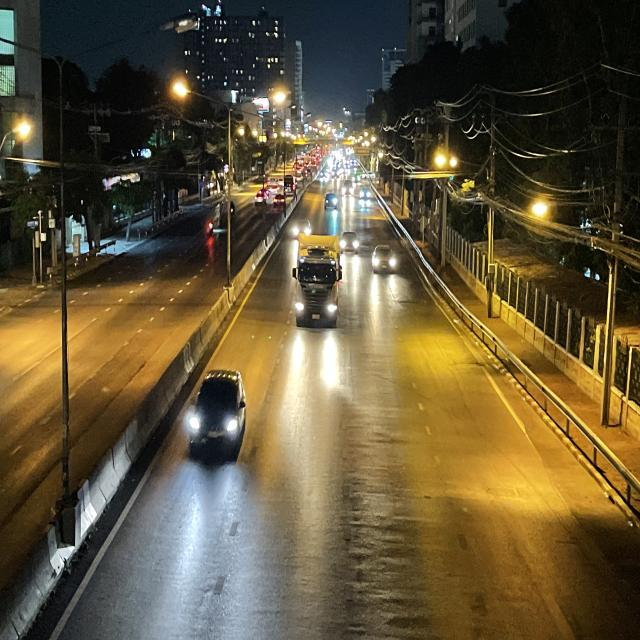car: (185, 367, 246, 460), (372, 244, 397, 274)
truck: (292, 232, 342, 327)
